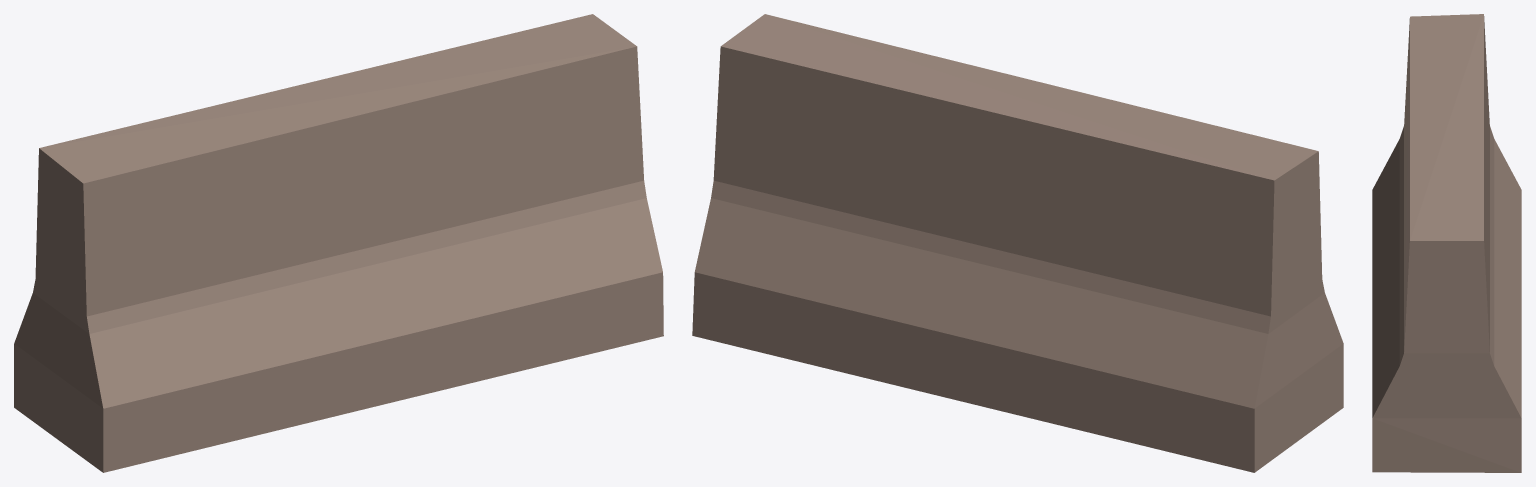
File: mb-roadblock.lod2.glb
3 renders of one model, left to right at view 1: azimuth 30°, elevation 25°; view 2: azimuth 150°, elevation 25°; view 3: azimuth 270°, elevation 25°, orthographic. The views are drawn at different scales.
Visible parts, largest first — view 1: roadblock1_roadblock1_0; view 2: roadblock1_roadblock1_0; view 3: roadblock1_roadblock1_0.
Part boxes in pixels (x1,y1,x2,y2): roadblock1_roadblock1_0: (14, 14, 663, 472); roadblock1_roadblock1_0: (692, 14, 1343, 472); roadblock1_roadblock1_0: (1372, 14, 1521, 472).
Size of the model in its own units: 1.92 by 0.8999 by 0.528.
